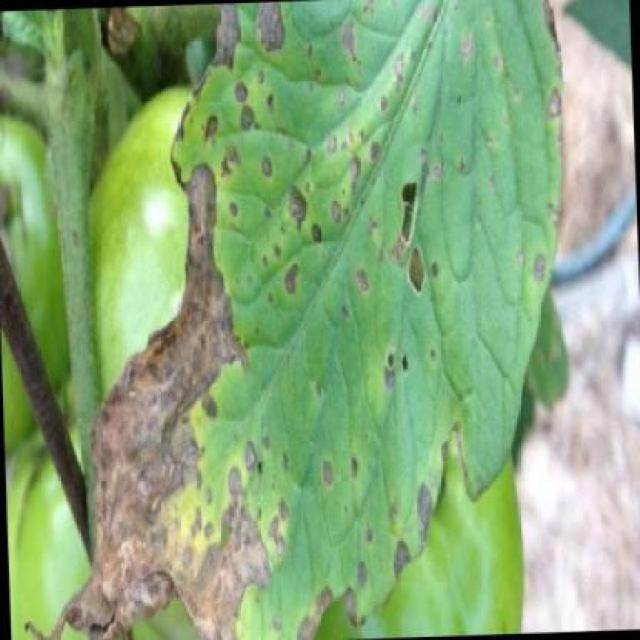Septoria leaf spot: (22, 1, 591, 639)
